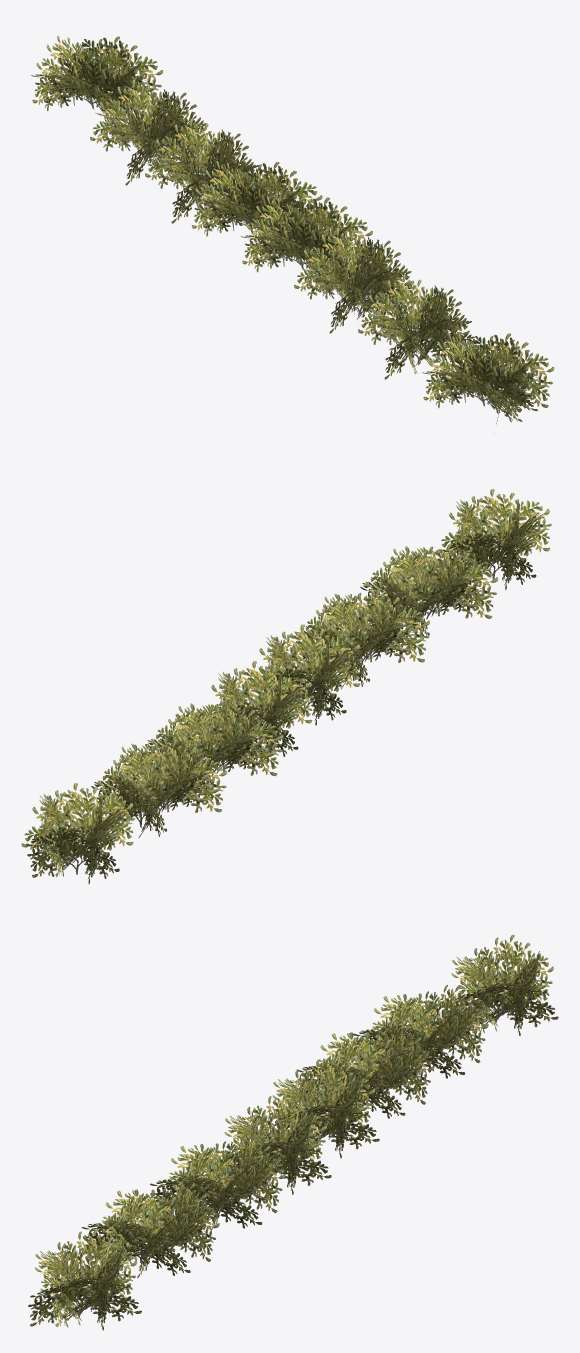
File: hedge01b.fbx
3 renders of one model, top to bottom at view 1: azimuth 30°, elevation 25°; view 2: azimuth 150°, elevation 25°; view 3: azimuth 330°, elevation 25°, orthographic.
Parts seen in each view (by area): view 1: hedge01b; view 2: hedge01b; view 3: hedge01b.
Boxes of the visible parts, x1=… form: hedge01b: x1=31, y1=35, x2=554, y2=423; hedge01b: x1=21, y1=489, x2=551, y2=883; hedge01b: x1=28, y1=934, x2=558, y2=1330.
Size of the model in its own units: 218 by 1218 by 111.
1 material, 1 textured.
